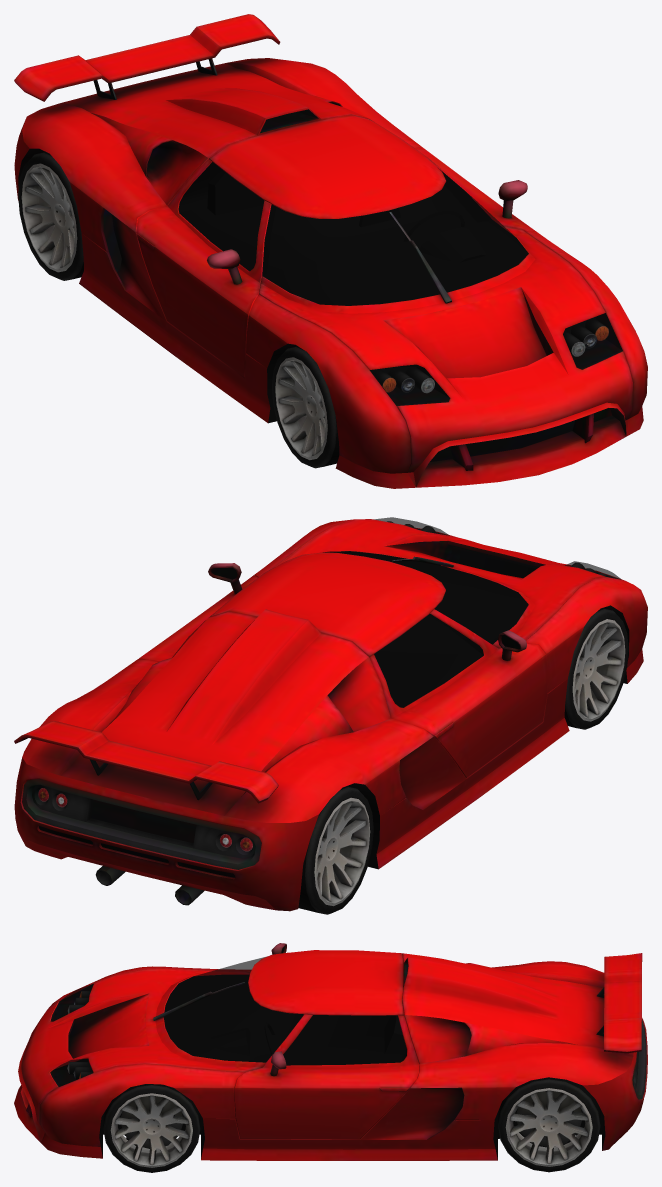
Rendered from sport.glb.
The picture shows the model from 3 angles, top to bottom: view 1: azimuth 30°, elevation 25°; view 2: azimuth 150°, elevation 25°; view 3: azimuth 270°, elevation 25°; orthographic projection. The views are drawn at different scales.
Parts seen in each view (by area): view 1: Sport body, Wheel_H003, Wheel_H002; view 2: Sport body, Wheel_H003, Wheel_H002; view 3: Sport body, Wheel_H001, Wheel_H.
Boxes of the visible parts, left/top/right/bottom form: Sport body: left=14, top=14, right=647, bottom=488; Wheel_H003: left=18, top=151, right=83, bottom=280; Wheel_H002: left=272, top=346, right=339, bottom=468; Sport body: left=14, top=517, right=647, bottom=911; Wheel_H003: left=298, top=786, right=373, bottom=914; Wheel_H002: left=564, top=608, right=628, bottom=729; Sport body: left=14, top=943, right=647, bottom=1160; Wheel_H001: left=498, top=1077, right=600, bottom=1172; Wheel_H: left=103, top=1084, right=200, bottom=1172.
Bounding box in the file's own units: 1.77 × 1.04 × 3.91.
Materials: 4 (3 with a texture image).
